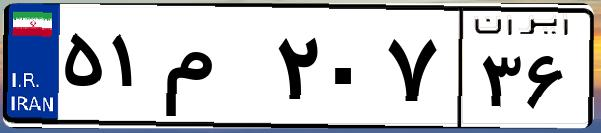0: (330, 28, 385, 110)
1: (110, 28, 158, 98)
2: (270, 28, 330, 110)
3: (475, 38, 525, 113)
5: (57, 26, 110, 100)
6: (525, 38, 570, 115)
7: (385, 28, 445, 110)
م: (158, 20, 270, 120)
